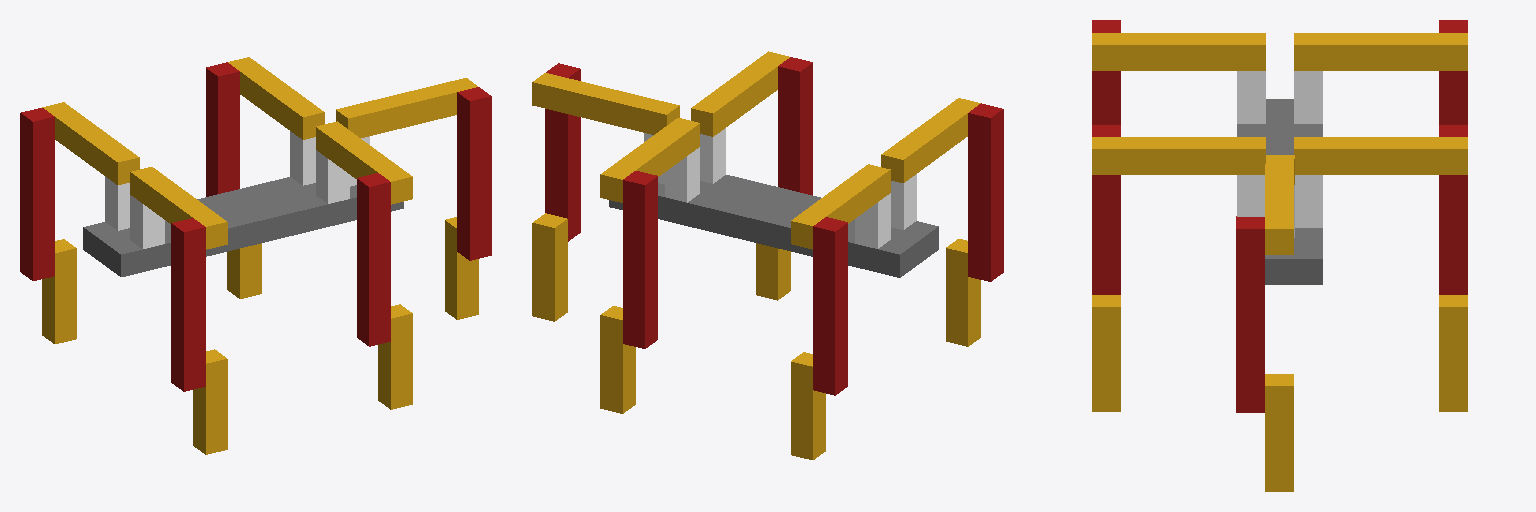
robot.urdf — v0:
<?xml version="1.0" encoding="utf-8"?>
<!-- =================================================================================== -->
<!-- |    This document was autogenerated by xacro from v0Five.urdf.xacro              | -->
<!-- |    EDITING THIS FILE BY HAND IS NOT RECOMMENDED                                 | -->
<!-- =================================================================================== -->
<robot name="v0">
  <material name="grey">
    <color rgba="0.5 0.5 0.5 1"/>
  </material>
  <material name="white">
    <color rgba="1 1 1 1"/>
  </material>
  <material name="yellow">
    <color rgba="0.91 0.7 0.14 1"/>
  </material>
  <material name="red">
    <color rgba="0.71 0.14 0.14 1"/>
  </material>
  <link name="body">
    <visual>
      <geometry>
        <box size="1.3 0.3 0.1"/>
      </geometry>
      <material name="grey"/>
      <origin rpy="0 0 0" xyz="0 0 0.7"/>
    </visual>
    <collision>
      <geometry>
        <box size="1.3 0.3 0.1"/>
      </geometry>
      <origin rpy="0 0 0" xyz="0 0 0.7"/>
    </collision>
    <inertial>
      <mass value="99.84"/>
      <inertia ixx="0.832" ixy="0.0" ixz="0.0" iyy="14.144" iyz="0.0" izz="14.8096"/>
    </inertial>
  </link>
  <link name="l1_segment_1">
    <visual>
      <geometry>
        <box size="0.1 0.1 0.2"/>
      </geometry>
      <material name="white"/>
      <origin rpy="0 0 0" xyz="0 0 0.1"/>
    </visual>
    <collision>
      <geometry>
        <box size="0.1 0.1 0.2"/>
      </geometry>
      <origin rpy="0 0 0" xyz="0 0 0.1"/>
    </collision>
    <inertial>
      <mass value="5.12"/>
      <inertia ixx="0.0213333333333" ixy="0.0" ixz="0.0" iyy="0.0213333333333" iyz="0.0" izz="0.00853333333333"/>
    </inertial>
  </link>
  <joint name="l1_base_to_joint_1" type="fixed">
    <parent link="body"/>
    <child link="l1_segment_1"/>
    <origin rpy="0 0 0" xyz="0.35 0.1 .75"/>
  </joint>
  <link name="l1_segment_2_HIP">
    <visual>
      <geometry>
        <box size="0.1 0.6 0.1"/>
      </geometry>
      <material name="yellow"/>
      <origin rpy="0 0 0" xyz="0 0.25 0"/>
    </visual>
    <collision>
      <geometry>
        <box size="0.1 0.6 0.1"/>
      </geometry>
      <origin rpy="0 0 0" xyz="0 0.25 0"/>
    </collision>
    <inertial>
      <mass value="15.36"/>
      <inertia ixx="0.4736" ixy="0.0" ixz="0.0" iyy="0.0256" iyz="0.0" izz="0.4736"/>
    </inertial>
  </link>
  <joint name="l1_joint_1_to_2" type="revolute">
    <parent link="l1_segment_1"/>
    <child link="l1_segment_2_HIP"/>
    <origin rpy="0 0 0" xyz="0 0 0.25"/>
    <axis xyz="0.0 0.0 1.0"/>
    <limit effort="2048" lower="-1.2" upper="1.2" velocity="20"/>
  </joint>
  <link name="l1_segment_3_THIGH">
    <visual>
      <geometry>
        <box size="0.1 0.1 0.7"/>
      </geometry>
      <material name="red"/>
      <origin rpy="0 0 0" xyz="0 0 -0.3"/>
    </visual>
    <collision>
      <geometry>
        <box size="0.1 0.1 0.7"/>
      </geometry>
      <origin rpy="0 0 0" xyz="0 0 -0.3"/>
    </collision>
    <inertial>
      <mass value="17.92"/>
      <inertia ixx="0.746666666667" ixy="0.0" ixz="0.0" iyy="0.746666666667" iyz="0.0" izz="0.0298666666667"/>
    </inertial>
  </link>
  <joint name="l1_joint_2_to_3" type="revolute">
    <parent link="l1_segment_2_HIP"/>
    <child link="l1_segment_3_THIGH"/>
    <origin rpy="0 0 0" xyz="-0.1 0.5 0"/>
    <axis xyz="1.0 0.0 0.0"/>
    <limit effort="2048" lower="-0.2" upper="0.75" velocity="20"/>
  </joint>
  <link name="l1_segment_4_FOOT">
    <visual>
      <geometry>
        <box size="0.1 0.1 0.4"/>
      </geometry>
      <material name="yellow"/>
      <origin rpy="0 0 0" xyz="0 0 -0.2"/>
    </visual>
    <collision>
      <geometry>
        <box size="0.1 0.1 0.4"/>
      </geometry>
      <origin rpy="0 0 0" xyz="0 0 -0.2"/>
    </collision>
    <inertial>
      <mass value="10.24"/>
      <inertia ixx="0.145066666667" ixy="0.0" ixz="0.0" iyy="0.145066666667" iyz="0.0" izz="0.0170666666667"/>
    </inertial>
  </link>
  <joint name="l1_joint_3_to_4_FOOT" type="revolute">
    <parent link="l1_segment_3_THIGH"/>
    <child link="l1_segment_4_FOOT"/>
    <origin rpy="0 0 0" xyz="0.1 0 -0.55"/>
    <axis xyz="1.0 0.0 0.0"/>
    <limit effort="2048" lower="-0.2" upper="0.5" velocity="20"/>
  </joint>
  <!--	<xacro:leg name="l2" reflect="1">-->
  <!--		<origin xyz="0 0.1 1.05" rpy="0 0 0" />-->
  <!--	</xacro:leg>-->
  <link name="l3_segment_1">
    <visual>
      <geometry>
        <box size="0.1 0.1 0.2"/>
      </geometry>
      <material name="white"/>
      <origin rpy="0 0 0" xyz="0 0 0.1"/>
    </visual>
    <collision>
      <geometry>
        <box size="0.1 0.1 0.2"/>
      </geometry>
      <origin rpy="0 0 0" xyz="0 0 0.1"/>
    </collision>
    <inertial>
      <mass value="5.12"/>
      <inertia ixx="0.0213333333333" ixy="0.0" ixz="0.0" iyy="0.0213333333333" iyz="0.0" izz="0.00853333333333"/>
    </inertial>
  </link>
  <joint name="l3_base_to_joint_1" type="fixed">
    <parent link="body"/>
    <child link="l3_segment_1"/>
    <origin rpy="0 0 0" xyz="-0.5 0.1 .75"/>
  </joint>
  <link name="l3_segment_2_HIP">
    <visual>
      <geometry>
        <box size="0.1 0.6 0.1"/>
      </geometry>
      <material name="yellow"/>
      <origin rpy="0 0 0" xyz="0 0.25 0"/>
    </visual>
    <collision>
      <geometry>
        <box size="0.1 0.6 0.1"/>
      </geometry>
      <origin rpy="0 0 0" xyz="0 0.25 0"/>
    </collision>
    <inertial>
      <mass value="15.36"/>
      <inertia ixx="0.4736" ixy="0.0" ixz="0.0" iyy="0.0256" iyz="0.0" izz="0.4736"/>
    </inertial>
  </link>
  <joint name="l3_joint_1_to_2" type="revolute">
    <parent link="l3_segment_1"/>
    <child link="l3_segment_2_HIP"/>
    <origin rpy="0 0 0" xyz="0 0 0.25"/>
    <axis xyz="0.0 0.0 1.0"/>
    <limit effort="2048" lower="-1.2" upper="1.2" velocity="20"/>
  </joint>
  <link name="l3_segment_3_THIGH">
    <visual>
      <geometry>
        <box size="0.1 0.1 0.7"/>
      </geometry>
      <material name="red"/>
      <origin rpy="0 0 0" xyz="0 0 -0.3"/>
    </visual>
    <collision>
      <geometry>
        <box size="0.1 0.1 0.7"/>
      </geometry>
      <origin rpy="0 0 0" xyz="0 0 -0.3"/>
    </collision>
    <inertial>
      <mass value="17.92"/>
      <inertia ixx="0.746666666667" ixy="0.0" ixz="0.0" iyy="0.746666666667" iyz="0.0" izz="0.0298666666667"/>
    </inertial>
  </link>
  <joint name="l3_joint_2_to_3" type="revolute">
    <parent link="l3_segment_2_HIP"/>
    <child link="l3_segment_3_THIGH"/>
    <origin rpy="0 0 0" xyz="-0.1 0.5 0"/>
    <axis xyz="1.0 0.0 0.0"/>
    <limit effort="2048" lower="-0.2" upper="0.75" velocity="20"/>
  </joint>
  <link name="l3_segment_4_FOOT">
    <visual>
      <geometry>
        <box size="0.1 0.1 0.4"/>
      </geometry>
      <material name="yellow"/>
      <origin rpy="0 0 0" xyz="0 0 -0.2"/>
    </visual>
    <collision>
      <geometry>
        <box size="0.1 0.1 0.4"/>
      </geometry>
      <origin rpy="0 0 0" xyz="0 0 -0.2"/>
    </collision>
    <inertial>
      <mass value="10.24"/>
      <inertia ixx="0.145066666667" ixy="0.0" ixz="0.0" iyy="0.145066666667" iyz="0.0" izz="0.0170666666667"/>
    </inertial>
  </link>
  <joint name="l3_joint_3_to_4_FOOT" type="revolute">
    <parent link="l3_segment_3_THIGH"/>
    <child link="l3_segment_4_FOOT"/>
    <origin rpy="0 0 0" xyz="0.1 0 -0.55"/>
    <axis xyz="1.0 0.0 0.0"/>
    <limit effort="2048" lower="-0.2" upper="0.5" velocity="20"/>
  </joint>
  <link name="r1_segment_1">
    <visual>
      <geometry>
        <box size="0.1 0.1 0.2"/>
      </geometry>
      <material name="white"/>
      <origin rpy="0 0 0" xyz="0 0 0.1"/>
    </visual>
    <collision>
      <geometry>
        <box size="0.1 0.1 0.2"/>
      </geometry>
      <origin rpy="0 0 0" xyz="0 0 0.1"/>
    </collision>
    <inertial>
      <mass value="5.12"/>
      <inertia ixx="0.0213333333333" ixy="0.0" ixz="0.0" iyy="0.0213333333333" iyz="0.0" izz="0.00853333333333"/>
    </inertial>
  </link>
  <joint name="r1_base_to_joint_1" type="fixed">
    <parent link="body"/>
    <child link="r1_segment_1"/>
    <origin rpy="0 0 0" xyz="0.35 -0.1 .75"/>
  </joint>
  <link name="r1_segment_2_HIP">
    <visual>
      <geometry>
        <box size="0.1 0.6 0.1"/>
      </geometry>
      <material name="yellow"/>
      <origin rpy="0 0 0" xyz="0 -0.25 0"/>
    </visual>
    <collision>
      <geometry>
        <box size="0.1 0.6 0.1"/>
      </geometry>
      <origin rpy="0 0 0" xyz="0 -0.25 0"/>
    </collision>
    <inertial>
      <mass value="15.36"/>
      <inertia ixx="0.4736" ixy="0.0" ixz="0.0" iyy="0.0256" iyz="0.0" izz="0.4736"/>
    </inertial>
  </link>
  <joint name="r1_joint_1_to_2" type="revolute">
    <parent link="r1_segment_1"/>
    <child link="r1_segment_2_HIP"/>
    <origin rpy="0 0 0" xyz="0 0 0.25"/>
    <axis xyz="0.0 0.0 1.0"/>
    <limit effort="2048" lower="-1.2" upper="1.2" velocity="20"/>
  </joint>
  <link name="r1_segment_3_THIGH">
    <visual>
      <geometry>
        <box size="0.1 0.1 0.7"/>
      </geometry>
      <material name="red"/>
      <origin rpy="0 0 0" xyz="0 0 -0.3"/>
    </visual>
    <collision>
      <geometry>
        <box size="0.1 0.1 0.7"/>
      </geometry>
      <origin rpy="0 0 0" xyz="0 0 -0.3"/>
    </collision>
    <inertial>
      <mass value="17.92"/>
      <inertia ixx="0.746666666667" ixy="0.0" ixz="0.0" iyy="0.746666666667" iyz="0.0" izz="0.0298666666667"/>
    </inertial>
  </link>
  <joint name="r1_joint_2_to_3" type="revolute">
    <parent link="r1_segment_2_HIP"/>
    <child link="r1_segment_3_THIGH"/>
    <origin rpy="0 0 0" xyz="-0.1 -0.5 0"/>
    <axis xyz="1.0 0.0 0.0"/>
    <limit effort="2048" lower="-0.75" upper="0.2" velocity="20"/>
  </joint>
  <link name="r1_segment_4_FOOT">
    <visual>
      <geometry>
        <box size="0.1 0.1 0.4"/>
      </geometry>
      <material name="yellow"/>
      <origin rpy="0 0 0" xyz="0 0 -0.2"/>
    </visual>
    <collision>
      <geometry>
        <box size="0.1 0.1 0.4"/>
      </geometry>
      <origin rpy="0 0 0" xyz="0 0 -0.2"/>
    </collision>
    <inertial>
      <mass value="10.24"/>
      <inertia ixx="0.145066666667" ixy="0.0" ixz="0.0" iyy="0.145066666667" iyz="0.0" izz="0.0170666666667"/>
    </inertial>
  </link>
  <joint name="r1_joint_3_to_4_FOOT" type="revolute">
    <parent link="r1_segment_3_THIGH"/>
    <child link="r1_segment_4_FOOT"/>
    <origin rpy="0 0 0" xyz="0.1 0 -0.55"/>
    <axis xyz="1.0 0.0 0.0"/>
    <limit effort="2048" lower="-0.5" upper="0.2" velocity="20"/>
  </joint>
  <!--	<xacro:leg name="r2" reflect="-1">-->
  <!--		<origin xyz="0 -0.1 1.05" rpy="0 0 0" />-->
  <!--	</xacro:leg>-->
  <link name="r3_segment_1">
    <visual>
      <geometry>
        <box size="0.1 0.1 0.2"/>
      </geometry>
      <material name="white"/>
      <origin rpy="0 0 0" xyz="0 0 0.1"/>
    </visual>
    <collision>
      <geometry>
        <box size="0.1 0.1 0.2"/>
      </geometry>
      <origin rpy="0 0 0" xyz="0 0 0.1"/>
    </collision>
    <inertial>
      <mass value="5.12"/>
      <inertia ixx="0.0213333333333" ixy="0.0" ixz="0.0" iyy="0.0213333333333" iyz="0.0" izz="0.00853333333333"/>
    </inertial>
  </link>
  <joint name="r3_base_to_joint_1" type="fixed">
    <parent link="body"/>
    <child link="r3_segment_1"/>
    <origin rpy="0 0 0" xyz="-0.5 -0.1 .75"/>
  </joint>
  <link name="r3_segment_2_HIP">
    <visual>
      <geometry>
        <box size="0.1 0.6 0.1"/>
      </geometry>
      <material name="yellow"/>
      <origin rpy="0 0 0" xyz="0 -0.25 0"/>
    </visual>
    <collision>
      <geometry>
        <box size="0.1 0.6 0.1"/>
      </geometry>
      <origin rpy="0 0 0" xyz="0 -0.25 0"/>
    </collision>
    <inertial>
      <mass value="15.36"/>
      <inertia ixx="0.4736" ixy="0.0" ixz="0.0" iyy="0.0256" iyz="0.0" izz="0.4736"/>
    </inertial>
  </link>
  <joint name="r3_joint_1_to_2" type="revolute">
    <parent link="r3_segment_1"/>
    <child link="r3_segment_2_HIP"/>
    <origin rpy="0 0 0" xyz="0 0 0.25"/>
    <axis xyz="0.0 0.0 1.0"/>
    <limit effort="2048" lower="-1.2" upper="1.2" velocity="20"/>
  </joint>
  <link name="r3_segment_3_THIGH">
    <visual>
      <geometry>
        <box size="0.1 0.1 0.7"/>
      </geometry>
      <material name="red"/>
      <origin rpy="0 0 0" xyz="0 0 -0.3"/>
    </visual>
    <collision>
      <geometry>
        <box size="0.1 0.1 0.7"/>
      </geometry>
      <origin rpy="0 0 0" xyz="0 0 -0.3"/>
    </collision>
    <inertial>
      <mass value="17.92"/>
      <inertia ixx="0.746666666667" ixy="0.0" ixz="0.0" iyy="0.746666666667" iyz="0.0" izz="0.0298666666667"/>
    </inertial>
  </link>
  <joint name="r3_joint_2_to_3" type="revolute">
    <parent link="r3_segment_2_HIP"/>
    <child link="r3_segment_3_THIGH"/>
    <origin rpy="0 0 0" xyz="-0.1 -0.5 0"/>
    <axis xyz="1.0 0.0 0.0"/>
    <limit effort="2048" lower="-0.75" upper="0.2" velocity="20"/>
  </joint>
  <link name="r3_segment_4_FOOT">
    <visual>
      <geometry>
        <box size="0.1 0.1 0.4"/>
      </geometry>
      <material name="yellow"/>
      <origin rpy="0 0 0" xyz="0 0 -0.2"/>
    </visual>
    <collision>
      <geometry>
        <box size="0.1 0.1 0.4"/>
      </geometry>
      <origin rpy="0 0 0" xyz="0 0 -0.2"/>
    </collision>
    <inertial>
      <mass value="10.24"/>
      <inertia ixx="0.145066666667" ixy="0.0" ixz="0.0" iyy="0.145066666667" iyz="0.0" izz="0.0170666666667"/>
    </inertial>
  </link>
  <joint name="r3_joint_3_to_4_FOOT" type="revolute">
    <parent link="r3_segment_3_THIGH"/>
    <child link="r3_segment_4_FOOT"/>
    <origin rpy="0 0 0" xyz="0.1 0 -0.55"/>
    <axis xyz="1.0 0.0 0.0"/>
    <limit effort="2048" lower="-0.5" upper="0.2" velocity="20"/>
  </joint>
  <link name="r4_segment_1">
    <visual>
      <geometry>
        <box size="0.1 0.1 0.2"/>
      </geometry>
      <material name="white"/>
      <origin rpy="0 0 0" xyz="0 0 0.1"/>
    </visual>
    <collision>
      <geometry>
        <box size="0.1 0.1 0.2"/>
      </geometry>
      <origin rpy="0 0 0" xyz="0 0 0.1"/>
    </collision>
    <inertial>
      <mass value="5.12"/>
      <inertia ixx="0.0213333333333" ixy="0.0" ixz="0.0" iyy="0.0213333333333" iyz="0.0" izz="0.00853333333333"/>
    </inertial>
  </link>
  <joint name="r4_base_to_joint_1" type="fixed">
    <parent link="body"/>
    <child link="r4_segment_1"/>
    <origin rpy="0 0 1.57" xyz="0.5 -0. .75"/>
  </joint>
  <link name="r4_segment_2_HIP">
    <visual>
      <geometry>
        <box size="0.1 0.6 0.1"/>
      </geometry>
      <material name="yellow"/>
      <origin rpy="0 0 0" xyz="0 -0.25 0"/>
    </visual>
    <collision>
      <geometry>
        <box size="0.1 0.6 0.1"/>
      </geometry>
      <origin rpy="0 0 0" xyz="0 -0.25 0"/>
    </collision>
    <inertial>
      <mass value="15.36"/>
      <inertia ixx="0.4736" ixy="0.0" ixz="0.0" iyy="0.0256" iyz="0.0" izz="0.4736"/>
    </inertial>
  </link>
  <joint name="r4_joint_1_to_2" type="revolute">
    <parent link="r4_segment_1"/>
    <child link="r4_segment_2_HIP"/>
    <origin rpy="0 0 0" xyz="0 0 0.25"/>
    <axis xyz="0.0 0.0 1.0"/>
    <limit effort="2048" lower="-1.2" upper="1.2" velocity="20"/>
  </joint>
  <link name="r4_segment_3_THIGH">
    <visual>
      <geometry>
        <box size="0.1 0.1 0.7"/>
      </geometry>
      <material name="red"/>
      <origin rpy="0 0 0" xyz="0 0 -0.3"/>
    </visual>
    <collision>
      <geometry>
        <box size="0.1 0.1 0.7"/>
      </geometry>
      <origin rpy="0 0 0" xyz="0 0 -0.3"/>
    </collision>
    <inertial>
      <mass value="17.92"/>
      <inertia ixx="0.746666666667" ixy="0.0" ixz="0.0" iyy="0.746666666667" iyz="0.0" izz="0.0298666666667"/>
    </inertial>
  </link>
  <joint name="r4_joint_2_to_3" type="revolute">
    <parent link="r4_segment_2_HIP"/>
    <child link="r4_segment_3_THIGH"/>
    <origin rpy="0 0 0" xyz="-0.1 -0.5 0"/>
    <axis xyz="1.0 0.0 0.0"/>
    <limit effort="2048" lower="-0.75" upper="0.2" velocity="20"/>
  </joint>
  <link name="r4_segment_4_FOOT">
    <visual>
      <geometry>
        <box size="0.1 0.1 0.4"/>
      </geometry>
      <material name="yellow"/>
      <origin rpy="0 0 0" xyz="0 0 -0.2"/>
    </visual>
    <collision>
      <geometry>
        <box size="0.1 0.1 0.4"/>
      </geometry>
      <origin rpy="0 0 0" xyz="0 0 -0.2"/>
    </collision>
    <inertial>
      <mass value="10.24"/>
      <inertia ixx="0.145066666667" ixy="0.0" ixz="0.0" iyy="0.145066666667" iyz="0.0" izz="0.0170666666667"/>
    </inertial>
  </link>
  <joint name="r4_joint_3_to_4_FOOT" type="revolute">
    <parent link="r4_segment_3_THIGH"/>
    <child link="r4_segment_4_FOOT"/>
    <origin rpy="0 0 0" xyz="0.1 0 -0.55"/>
    <axis xyz="1.0 0.0 0.0"/>
    <limit effort="2048" lower="-0.5" upper="0.2" velocity="20"/>
  </joint>
</robot>

--- What the picture shows (computed from the rendered views, not written in the file) ---
3 views of the same robot in one strip: view 1: azimuth 30°, elevation 25°; view 2: azimuth 150°, elevation 25°; view 3: azimuth 270°, elevation 25° (orthographic).
Model v0 with 21 links and 20 joints (15 revolute, 5 fixed), rooted at body, posed every joint at zero.
Visible links, largest first — view 1: body, r4_segment_3_THIGH, r3_segment_3_THIGH, l3_segment_3_THIGH, r1_segment_3_THIGH, l1_segment_3_THIGH, r4_segment_2_HIP, l1_segment_2_HIP, l3_segment_2_HIP, r3_segment_2_HIP, r1_segment_2_HIP, r1_segment_4_FOOT (+8 smaller); view 2: body, r3_segment_3_THIGH, l3_segment_3_THIGH, l1_segment_3_THIGH, r4_segment_2_HIP, r1_segment_3_THIGH, r4_segment_3_THIGH, r4_segment_4_FOOT, r1_segment_2_HIP, r3_segment_2_HIP, l1_segment_2_HIP, l3_segment_2_HIP (+8 smaller); view 3: l3_segment_2_HIP, r3_segment_2_HIP, r1_segment_2_HIP, l1_segment_2_HIP, r4_segment_3_THIGH, body, l1_segment_3_THIGH, r1_segment_3_THIGH, r4_segment_4_FOOT, l1_segment_4_FOOT, r1_segment_4_FOOT, r4_segment_2_HIP (+6 smaller).
Boxes of the visible links, <box> form: body: <box>83,177,403,276</box>; r4_segment_3_THIGH: <box>457,87,491,260</box>; r3_segment_3_THIGH: <box>171,218,205,391</box>; l3_segment_3_THIGH: <box>20,108,54,280</box>; r1_segment_3_THIGH: <box>357,173,390,346</box>; l1_segment_3_THIGH: <box>206,62,239,196</box>; r4_segment_2_HIP: <box>336,78,477,137</box>; l1_segment_2_HIP: <box>228,57,324,139</box>; l3_segment_2_HIP: <box>42,102,139,184</box>; r3_segment_2_HIP: <box>130,167,227,249</box>; r1_segment_2_HIP: <box>316,121,412,204</box>; r1_segment_4_FOOT: <box>378,304,412,409</box>; body: <box>609,175,938,277</box>; r3_segment_3_THIGH: <box>968,103,1003,281</box>; l3_segment_3_THIGH: <box>813,217,847,395</box>; l1_segment_3_THIGH: <box>623,171,657,348</box>; r4_segment_2_HIP: <box>532,73,679,134</box>; r1_segment_3_THIGH: <box>778,57,812,195</box>; r4_segment_3_THIGH: <box>545,63,580,241</box>; r4_segment_4_FOOT: <box>532,213,567,321</box>; r1_segment_2_HIP: <box>691,51,789,136</box>; r3_segment_2_HIP: <box>881,98,980,182</box>; l1_segment_2_HIP: <box>600,118,699,202</box>; l3_segment_2_HIP: <box>791,164,890,249</box>; l3_segment_2_HIP: <box>1294,33,1467,70</box>; r3_segment_2_HIP: <box>1092,33,1265,70</box>; r1_segment_2_HIP: <box>1092,137,1265,174</box>; l1_segment_2_HIP: <box>1294,137,1467,174</box>; r4_segment_3_THIGH: <box>1236,216,1264,412</box>; body: <box>1237,99,1322,284</box>; l1_segment_3_THIGH: <box>1439,125,1467,294</box>; r1_segment_3_THIGH: <box>1092,125,1120,294</box>; r4_segment_4_FOOT: <box>1265,374,1293,491</box>; l1_segment_4_FOOT: <box>1439,295,1467,411</box>; r1_segment_4_FOOT: <box>1092,295,1120,411</box>; r4_segment_2_HIP: <box>1265,155,1294,254</box>.
Bounding box of the posed robot: 1.7 × 1.3 × 1 m (x, y, z).
Geometry: primitives only (box / cylinder / sphere), no mesh files.